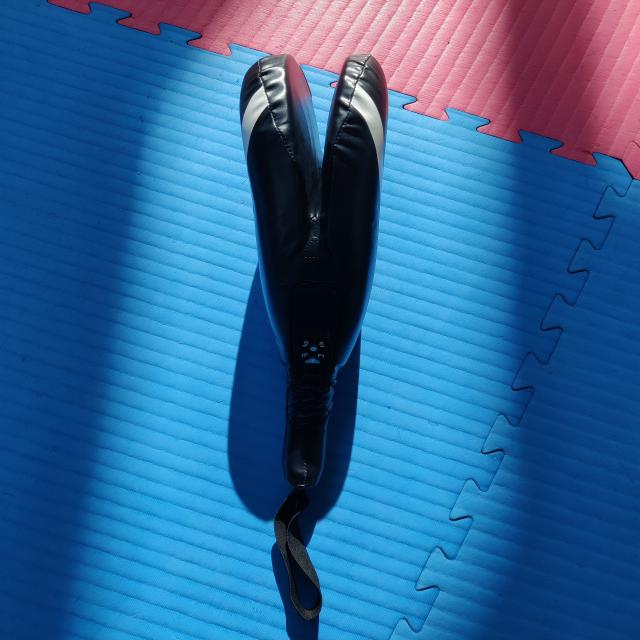paddle: (237, 51, 391, 490)
